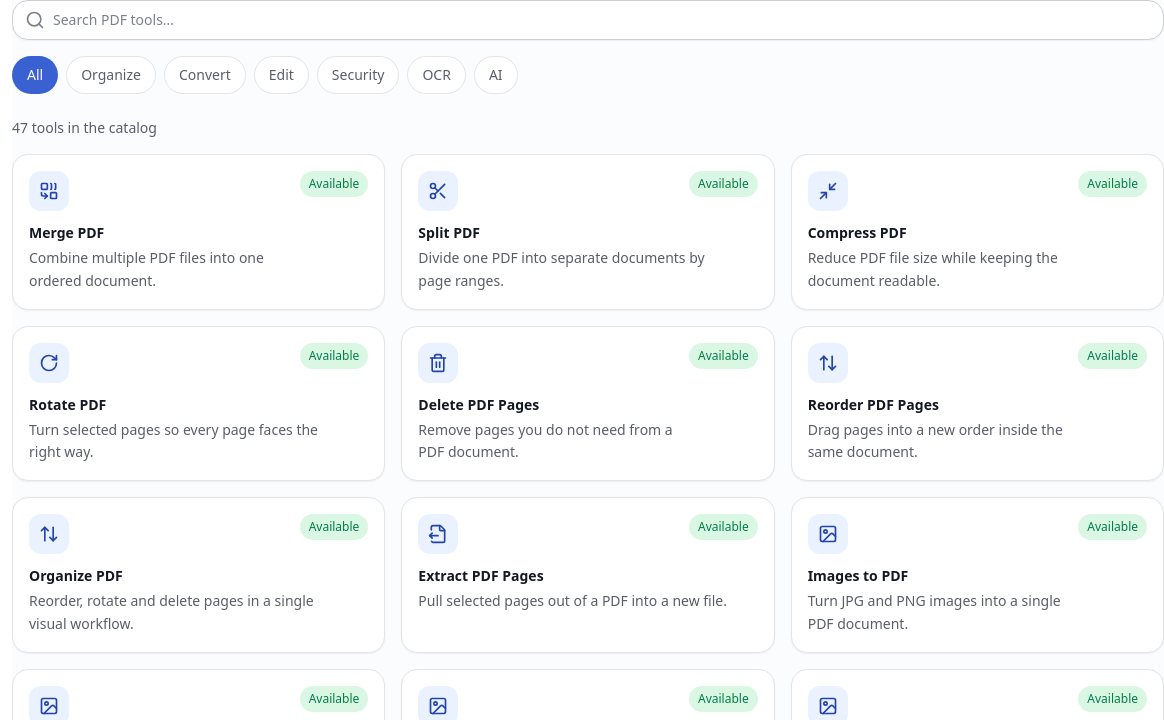
it: ToolExplorer › shows a no-results state and can be cleared
Type "zzzzz" into the search field named "search tools" at (602, 20), box [53,10,1151,30]
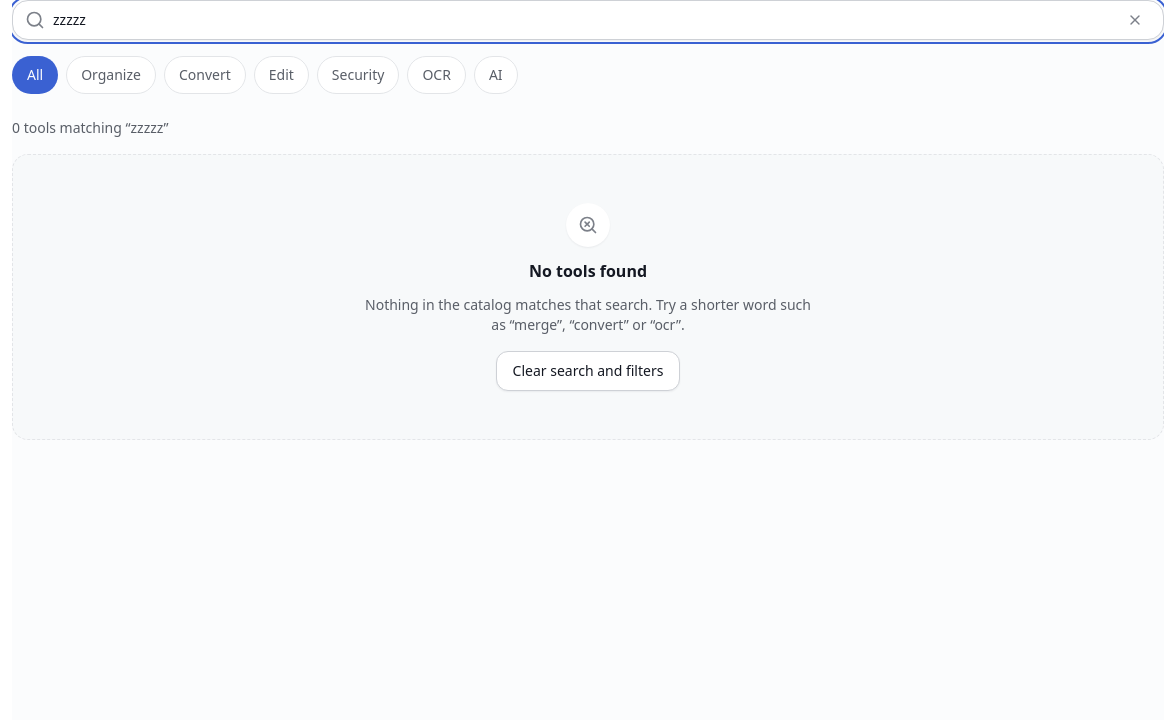
Now the text "No tools found" is shown, box [529,259,647,283]
Click the button "Clear search and filters" at (588, 371), box [496,351,680,391]
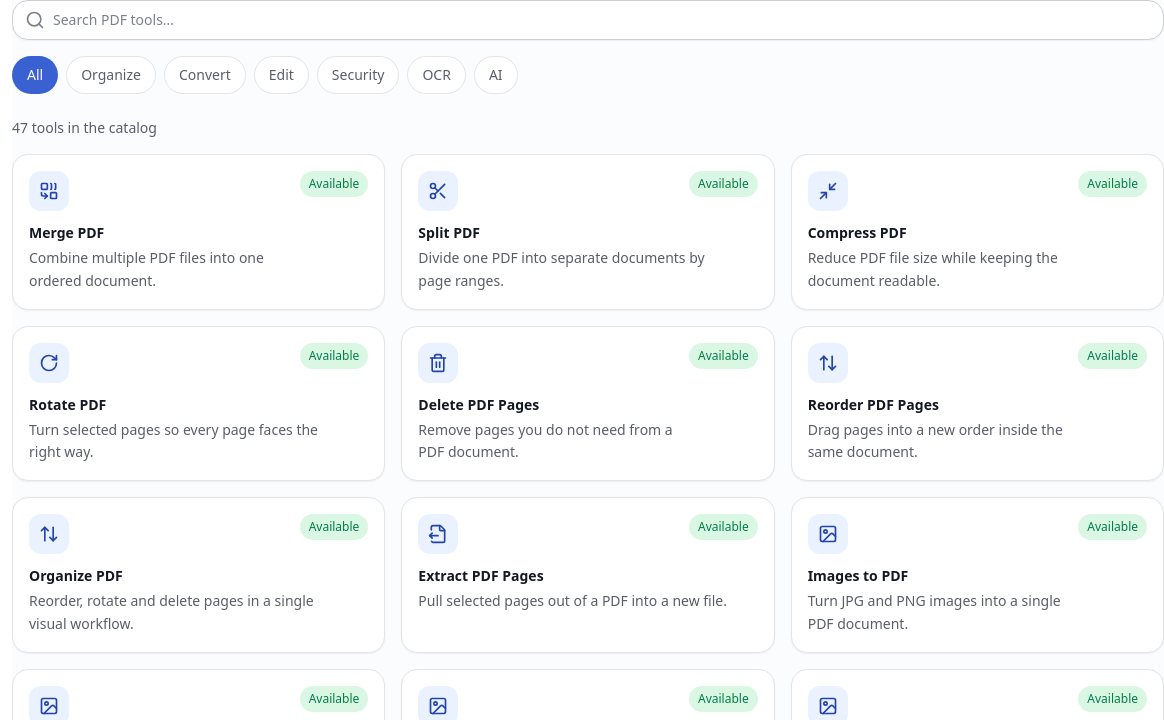
Now the search field named "search tools" is empty, box [53,10,1151,30]
Now the link "Merge PDF" is shown, box [12,154,385,310]
